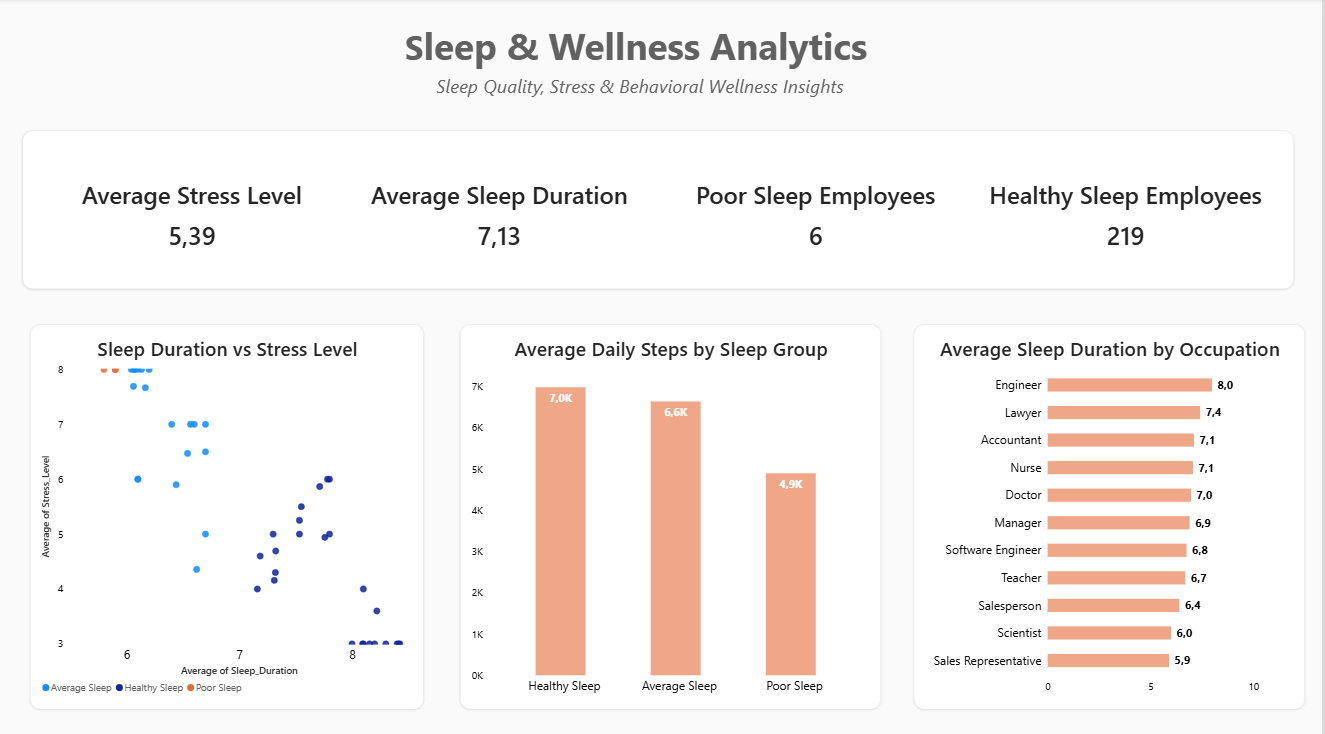

This screenshot's page, from the dashboard's own definition file:
{"tool":"powerbi","page":{"name":"Page 2","canvas":[1920,1080],"ordinal":1},"visuals":[{"type":"shape","box":[39.8,191.8,1840.4,229.8],"z":0},{"type":"card","title":"Average Sleep Duration","fields":{"Values":["Avg(vw_sleep_analysis.Sleep_Duration)"]},"box":[519.4,246.1,421.7,148.4],"z":1000},{"type":"card","title":"Average Stress Level","fields":{"Values":["Avg(vw_sleep_analysis.Stress_Level)"]},"box":[50.7,246.1,468.7,148.4],"z":2000},{"type":"card","title":"Healthy Sleep Employees","fields":{"Values":["CountNonNull(vw_sleep_analysis.Sleep_Group)"]},"box":[1418.8,246.1,436.1,148.4],"z":3000},{"type":"card","title":"Poor Sleep Employees","fields":{"Values":["CountNonNull(vw_sleep_analysis.Sleep_Group)"]},"box":[989.3,246.1,396.3,148.4],"z":4000},{"type":"scatterChart","title":"Sleep Duration vs Stress Level","fields":{"Category":["vw_sleep_analysis.Age"],"Series":["vw_sleep_analysis.Sleep_Group"],"X":["Avg(vw_sleep_analysis.Sleep_Duration)"],"Y":["Avg(vw_sleep_analysis.Stress_Level)"]},"box":[50.7,472.3,570,557.4],"z":5000},{"type":"clusteredColumnChart","title":"Average Daily Steps by Sleep Group","fields":{"Category":["vw_sleep_analysis.Sleep_Group"],"Y":["Avg(vw_sleep_analysis.Daily_Steps)"]},"box":[673.2,472.3,609.9,557.4],"z":6000},{"type":"barChart","title":"Average Sleep Duration by Occupation","fields":{"Category":["vw_sleep_analysis.Occupation"],"Y":["Avg(vw_sleep_analysis.Sleep_Duration)"]},"box":[1330.1,472.3,566.4,557.4],"z":7000},{"type":"textbox","box":[593.6,32.6,1100.3,128.5],"z":8000},{"type":"textbox","box":[638.8,108.6,944.6,105],"z":9000}]}

Visuals, with their boxes in screenshot pixels (x1, y1, x2, y2), scaled from the page's 1920x1080 canvas onto the 1325x734 screenshot:
shape: {"left": 27, "top": 130, "right": 1298, "bottom": 287}
"Average Sleep Duration" card: {"left": 358, "top": 167, "right": 649, "bottom": 268}
"Average Stress Level" card: {"left": 35, "top": 167, "right": 358, "bottom": 268}
"Healthy Sleep Employees" card: {"left": 979, "top": 167, "right": 1280, "bottom": 268}
"Poor Sleep Employees" card: {"left": 683, "top": 167, "right": 956, "bottom": 268}
"Sleep Duration vs Stress Level" scatterChart: {"left": 35, "top": 321, "right": 428, "bottom": 700}
"Average Daily Steps by Sleep Group" clusteredColumnChart: {"left": 465, "top": 321, "right": 885, "bottom": 700}
"Average Sleep Duration by Occupation" barChart: {"left": 918, "top": 321, "right": 1309, "bottom": 700}
textbox: {"left": 410, "top": 22, "right": 1169, "bottom": 109}
textbox: {"left": 441, "top": 74, "right": 1093, "bottom": 145}
